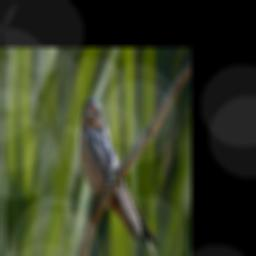Swallow: (79, 96, 161, 256)
